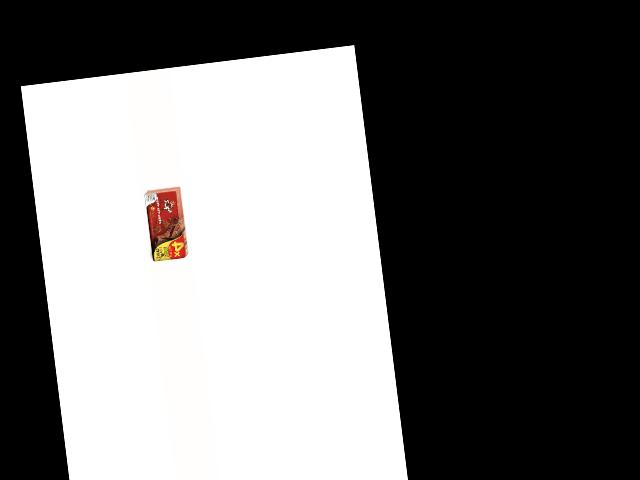chocolate: (142, 187, 188, 263)
